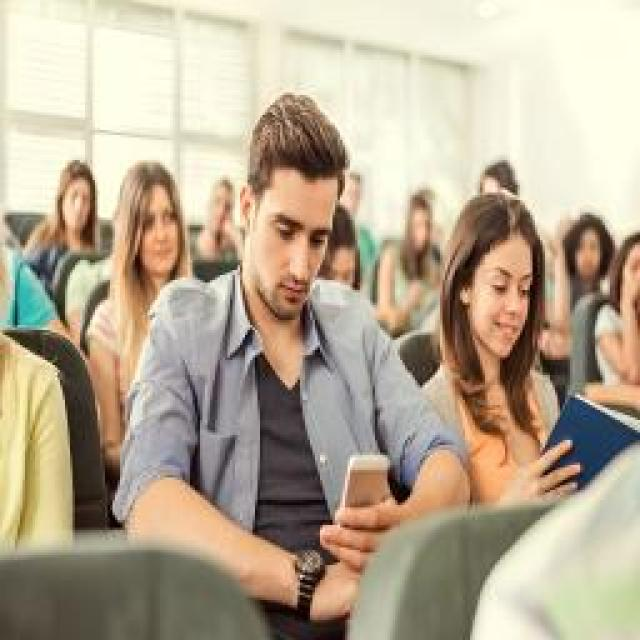phone: (125, 90, 463, 548)
